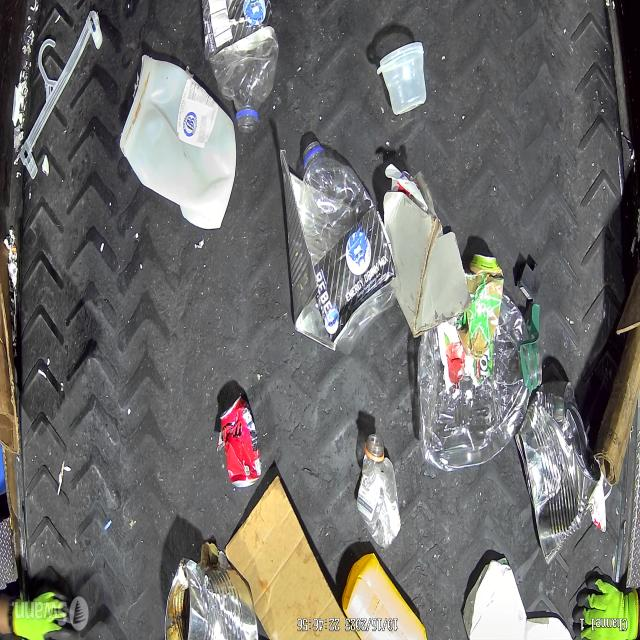can: (514, 380, 601, 566), (165, 559, 259, 640), (220, 394, 262, 488)
milk_jug: (118, 55, 236, 228)
non_white_jug: (341, 553, 428, 640)
plastic_bottle: (416, 292, 542, 471), (300, 142, 396, 356), (207, 2, 279, 134), (355, 435, 401, 547)
